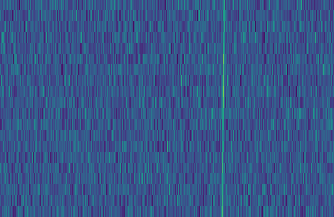signal: (218, 0, 229, 217)
